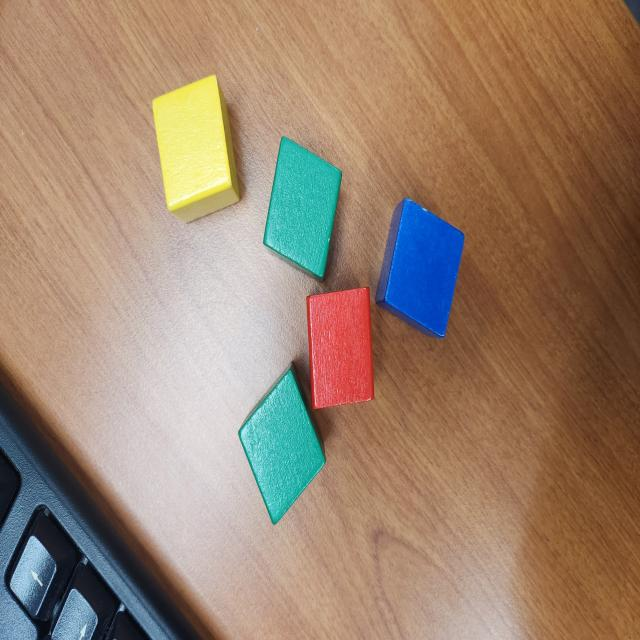blue: (375, 196, 467, 342)
green: (238, 360, 328, 526), (262, 134, 344, 283)
red: (306, 286, 376, 408)
yellow: (152, 76, 242, 224)
